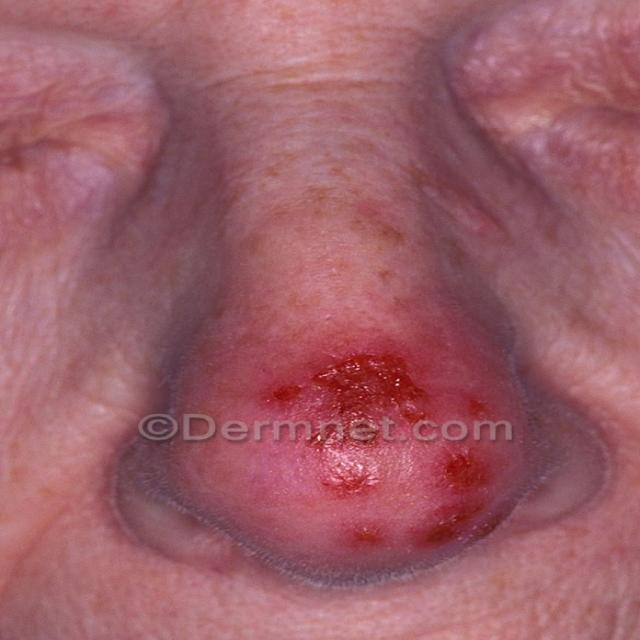Viral Infections: (256, 341, 505, 552)
